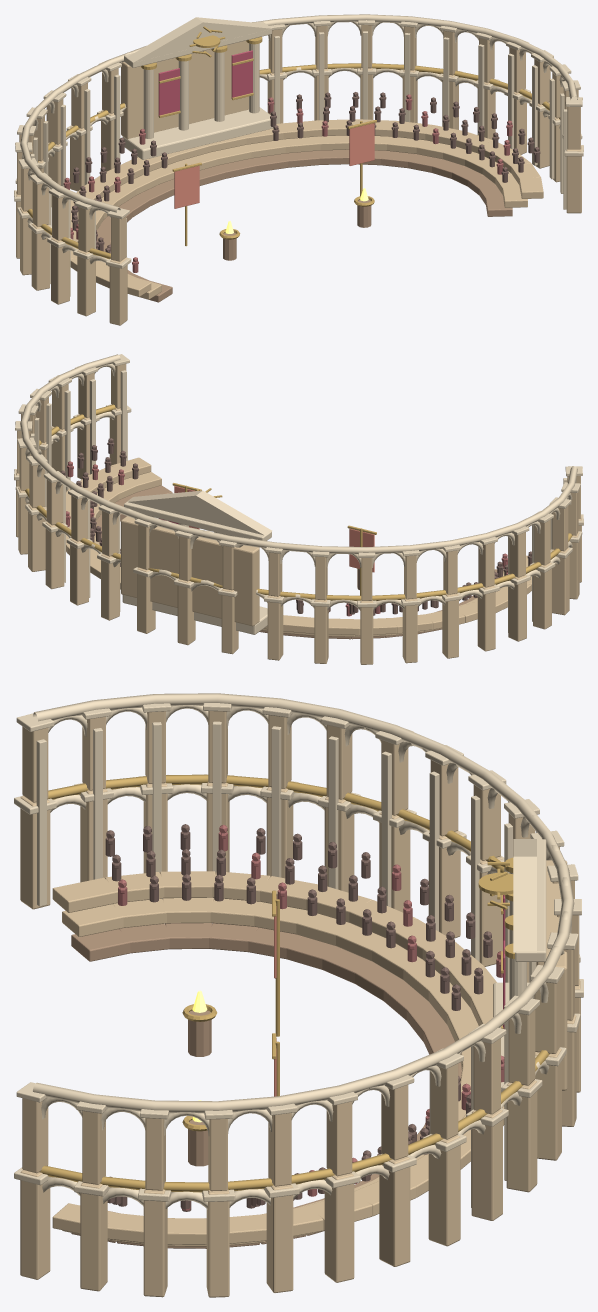
File: roman_arena.glb
The picture shows the model from 3 angles, top to bottom: view 1: azimuth 30°, elevation 25°; view 2: azimuth 150°, elevation 25°; view 3: azimuth 270°, elevation 25°; orthographic projection. The views are drawn at different scales.
Parts seen in each view (by area): view 1: Runespire Roman Arena; view 2: Runespire Roman Arena; view 3: Runespire Roman Arena.
Boxes of the visible parts, box(x1,y1,x2,y2) form: Runespire Roman Arena: box(14, 14, 583, 325); Runespire Roman Arena: box(14, 354, 583, 664); Runespire Roman Arena: box(14, 693, 583, 1297).
Size of the model in its own units: 32.03 by 8.85 by 18.27.
